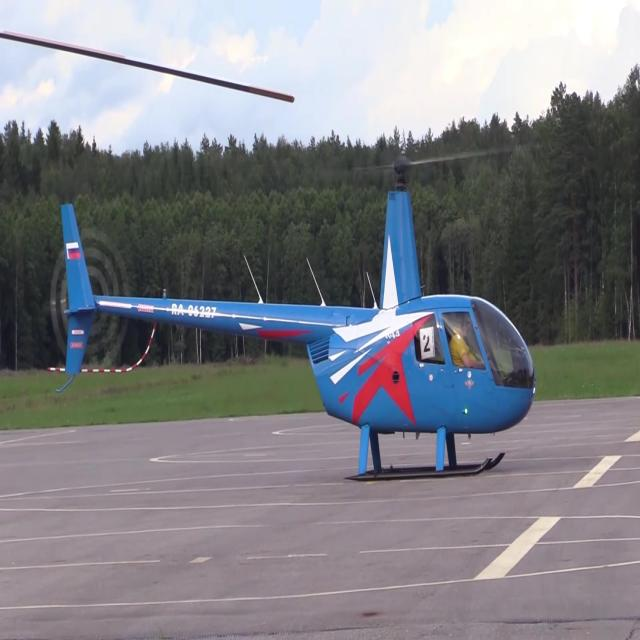CIV_HELO: (59, 154, 537, 482)
